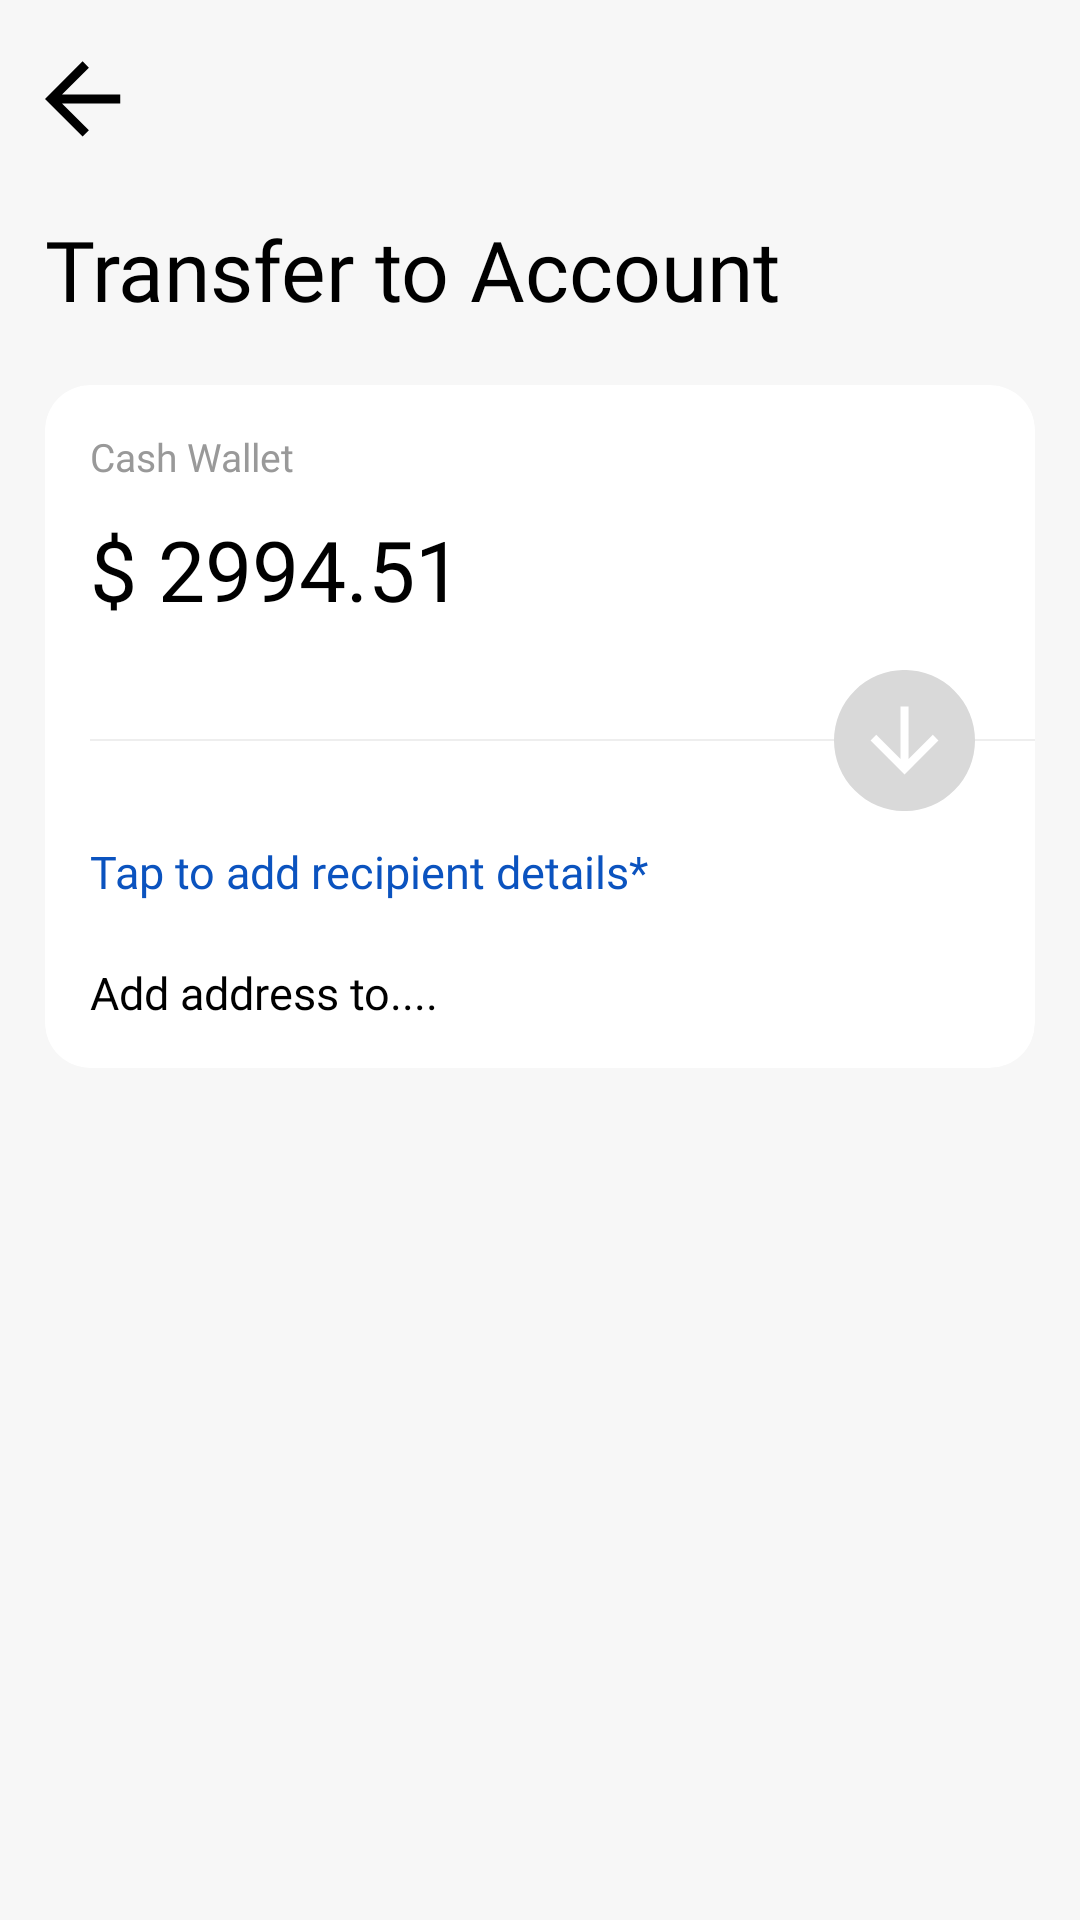

Where to tap for icons on this 1080w x 1920h app screen, as (x,y):
arrow back: (83,99)
down: (904,740)
